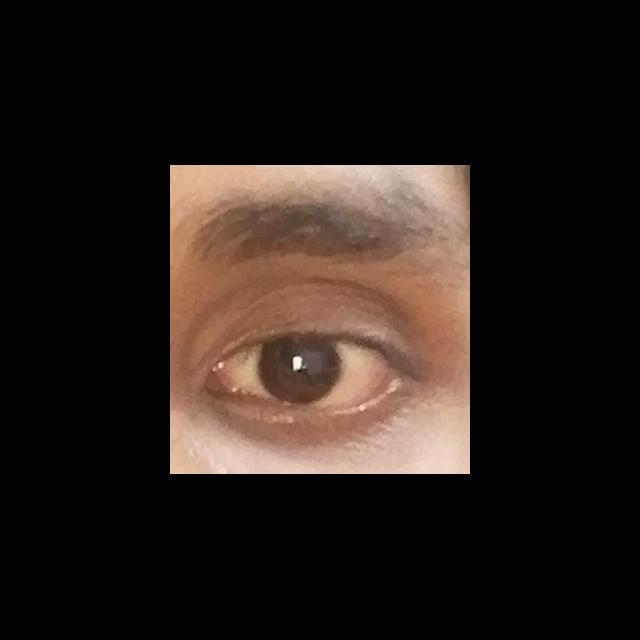eye: (224, 338, 390, 411)
iris: (258, 341, 341, 404)
